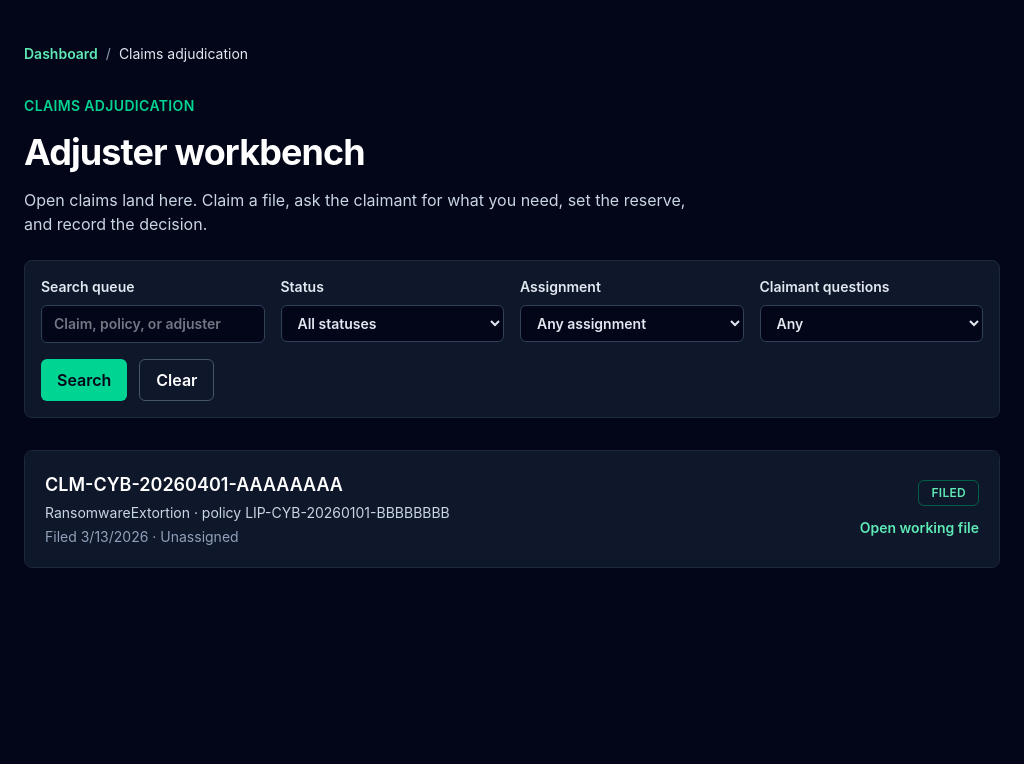
ClaimsAdjudicationPage › lists the queue and opens a claim's working file
Click the button with aria-label "open claim CLM-CYB-20260401-AAAAAAAA". click: (919,528)
box: [860, 518, 979, 538]
(page scrolled)
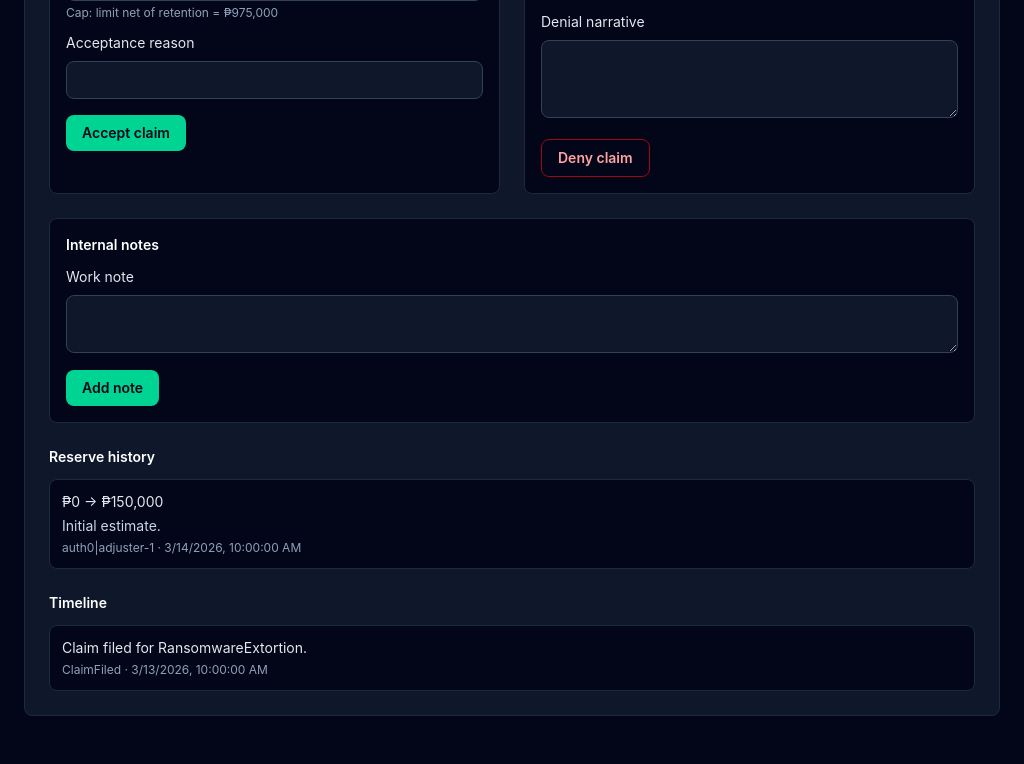
Check: the text "Initial estimate." is shown, box [62, 517, 161, 534]
